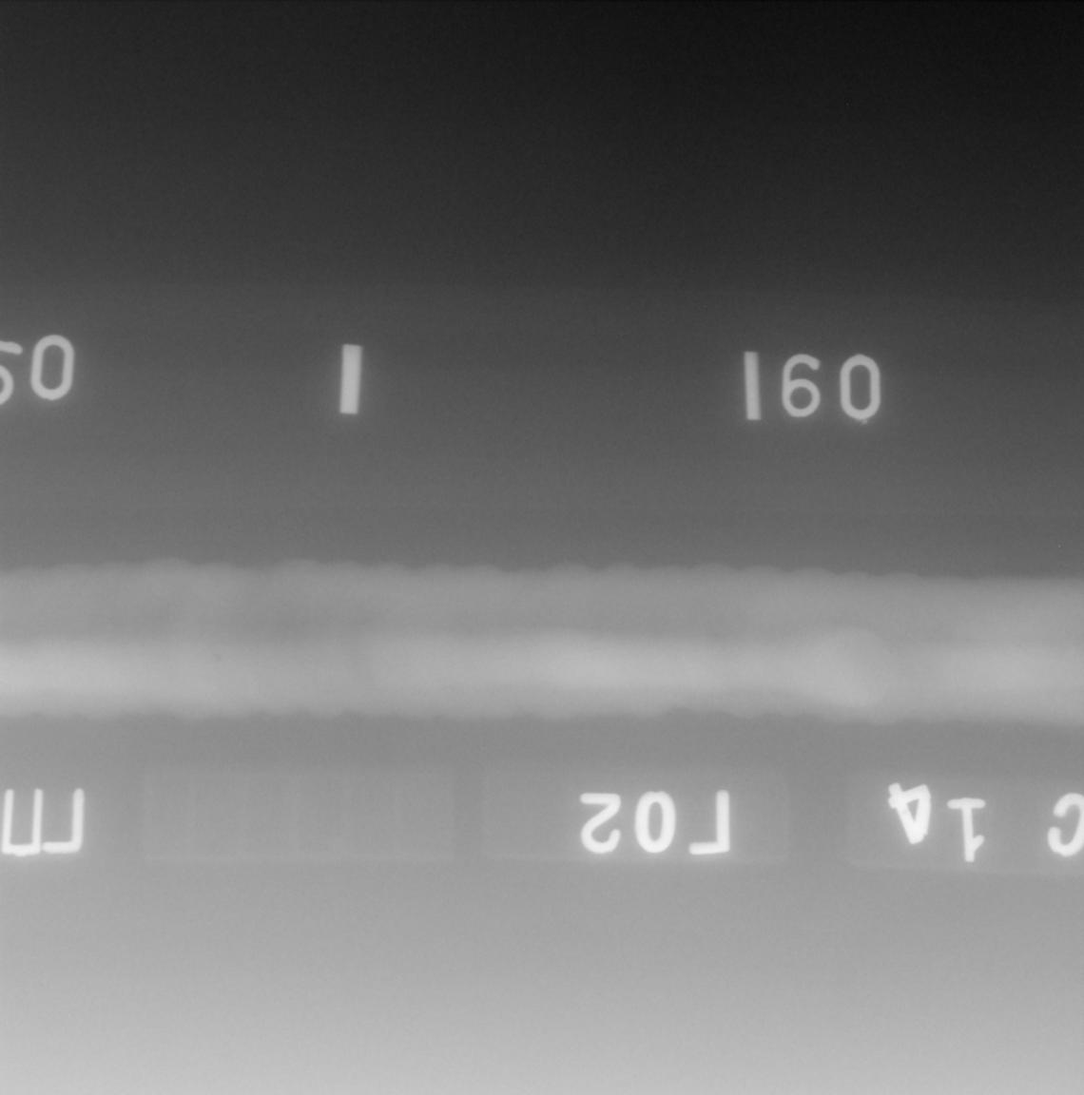Pore/Porosity: (213, 654, 221, 662)
